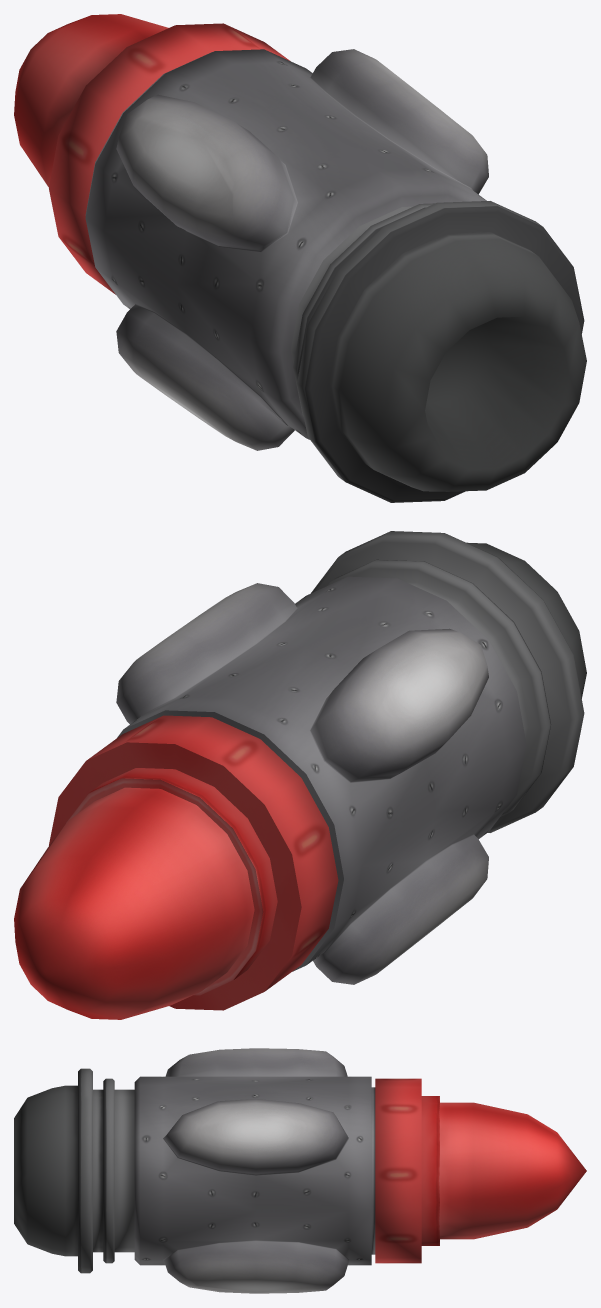
File: rocket.fbx
3 views of the same model, one above another, from view 1: azimuth 30°, elevation 25°; view 2: azimuth 150°, elevation 25°; view 3: azimuth 270°, elevation 25° (orthographic). The views are drawn at different scales.
Parts seen in each view (by area): view 1: Cylinder; view 2: Cylinder; view 3: Cylinder.
Boxes of the visible parts, x1,y1,x2,y2 form: Cylinder: (14,14,586,502); Cylinder: (14,531,586,1019); Cylinder: (14,1048,586,1293).
Size of the model in its own units: 24.53 by 24.58 by 67.03.
